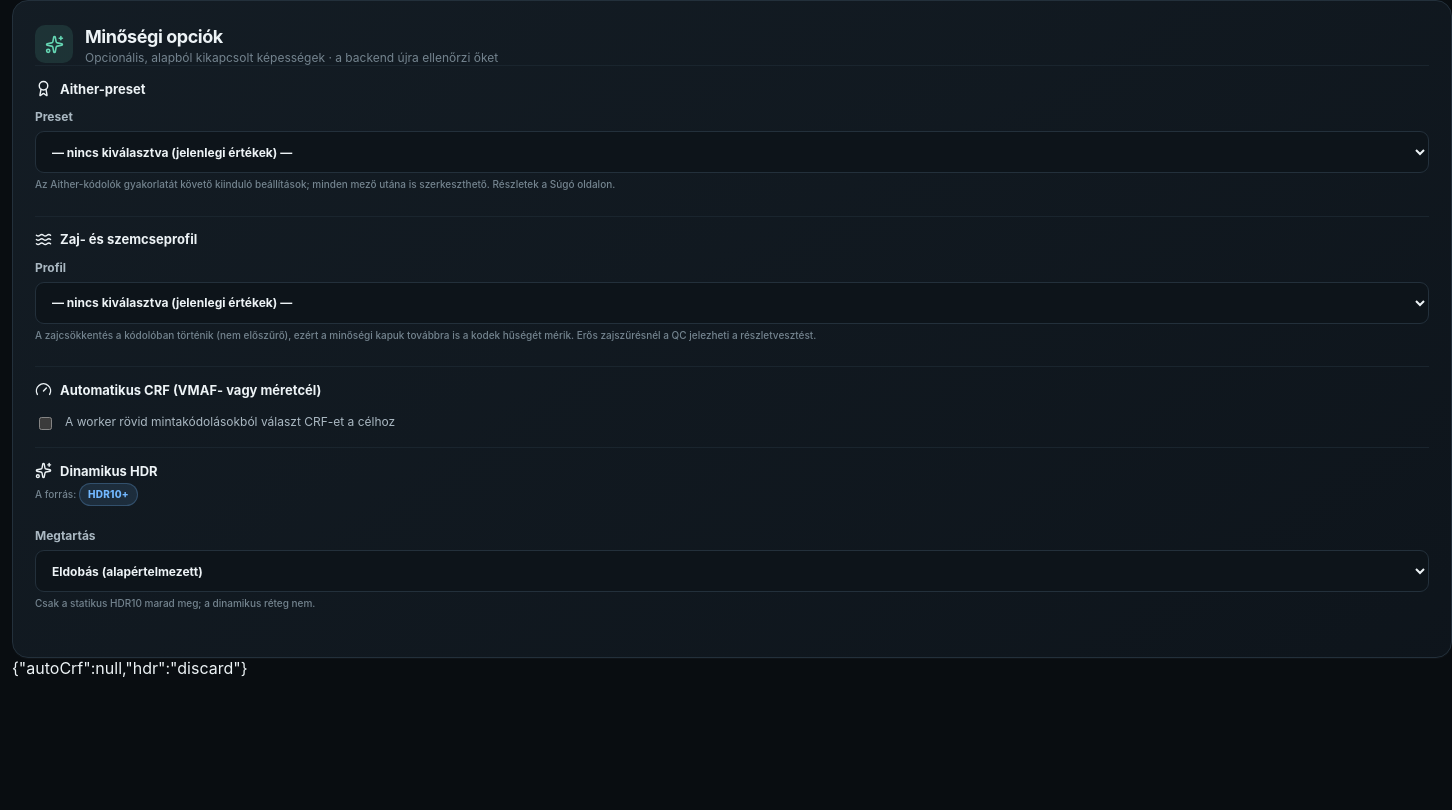
Scenario: QualityOptions › applies a noise profile's concrete settings and explains it
Select "Enyhe zajszűrés" in the dropdown named "Zaj- és szemcseprofil" at (732, 302), box [35,282,1429,324]
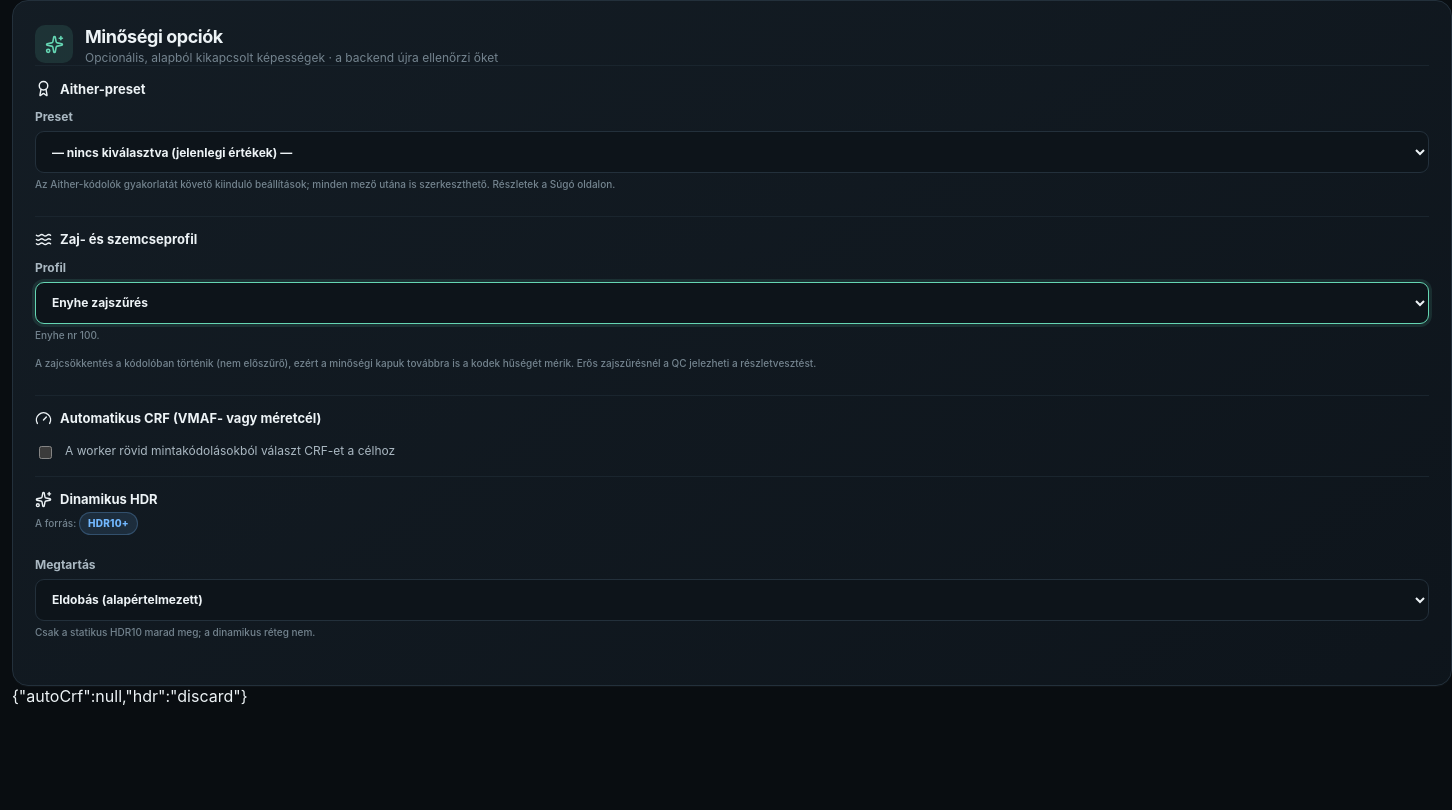
Expected: the text "a kódolóban történik (nem előszűrő)" is shown, [35,357,816,369]
Expected: the text "Enyhe nr 100." is shown, [35,328,100,340]
